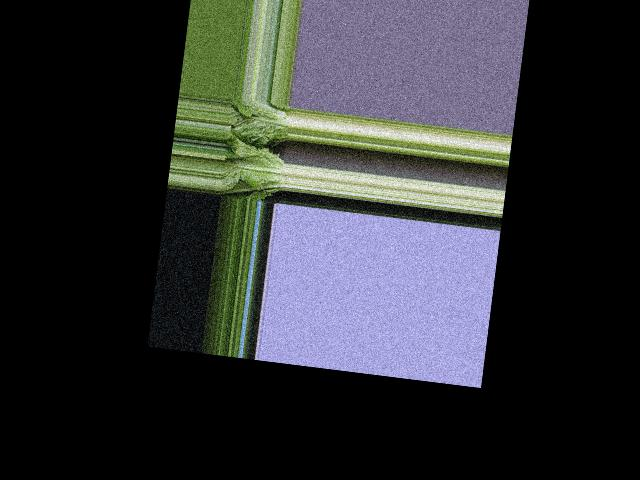lettuce: (230, 100, 292, 146)
